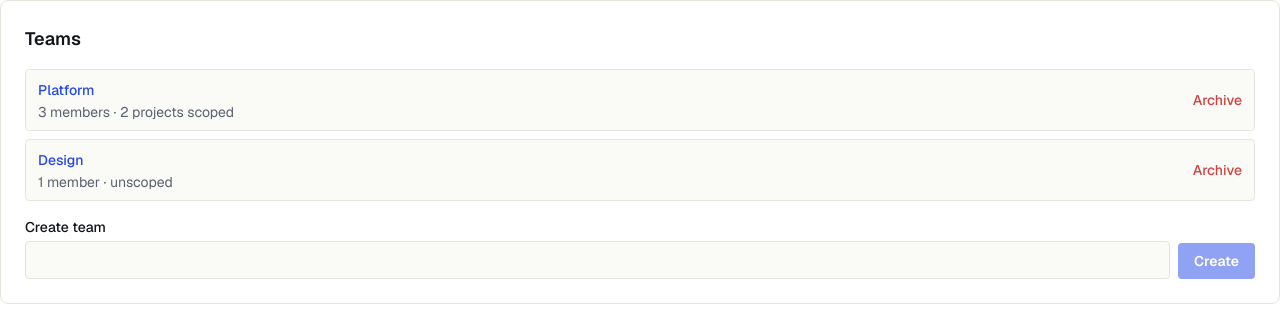
Test: TeamList › archives a team and removes it from the list on success
Expected: the link "Platform" is shown, [38, 81, 94, 99]
Click the button "Archive" in the row of "2 projects scoped": (1217, 100) [1193, 90, 1242, 110]
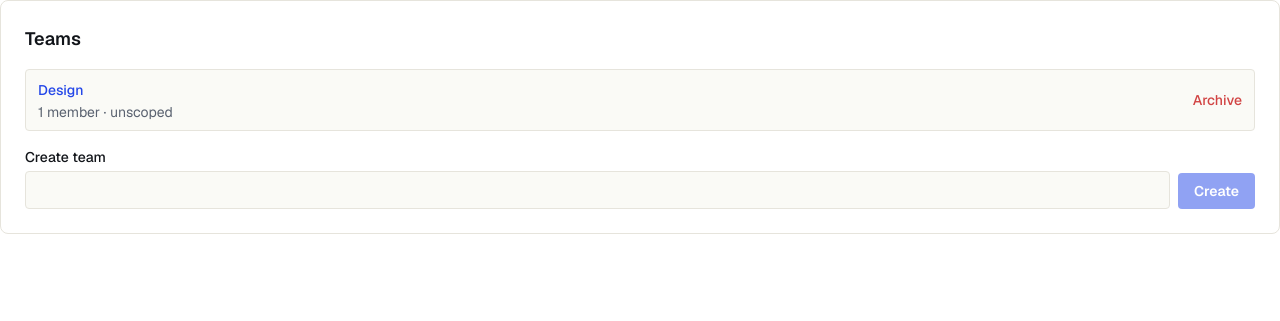
Expected: the link "Design" is shown, [38, 81, 84, 99]
Expected: the link "Platform" is gone
